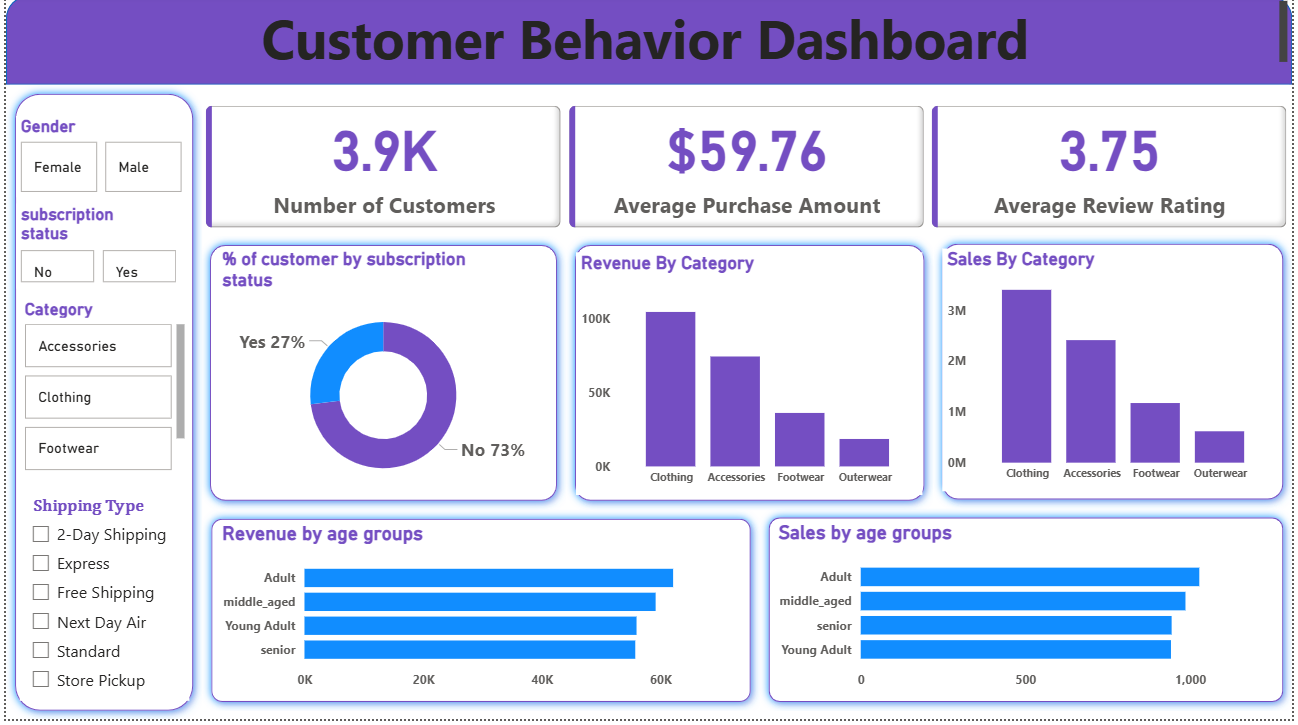

The page's visual inventory and layout, read from the dashboard file:
{"tool":"powerbi","page":{"name":"Page 1","canvas":[1280,720],"ordinal":0},"visuals":[{"type":"cardVisual","fields":{"Data":["public customer.Number of Customers","public customer.Average Purchase Amount","public customer.Average Review Rating"]},"box":[194.1,104.5,1086,131.9],"z":0},{"type":"shape","box":[0,0,1280,88.3],"z":1000},{"type":"textbox","box":[0,0,1280,75.9],"z":2000},{"type":"shape","box":[923,237.6,357,272.4],"z":3000},{"type":"shape","box":[194.1,238.8,363.2,272.4],"z":4000},{"type":"shape","box":[557.3,238.8,365.7,272.4],"z":5000},{"type":"clusteredColumnChart","title":"Sales By Category","fields":{"Y":["Sum(public customer.customer_id)"],"Category":["public customer.category"]},"box":[931.7,251.3,333.4,241.3],"z":6000},{"type":"clusteredColumnChart","title":"Revenue By Category","fields":{"Y":["Sum(public customer.purchase_amount)"],"Category":["public customer.category"]},"box":[567.2,255,344.6,241.3],"z":7000},{"type":"donutChart","title":"% of customer by subscription status","fields":{"Category":["public customer.subscription_status"],"Y":["CountNonNull(public customer.customer_id)"]},"box":[210.2,251.3,330.9,247.5],"z":8000},{"type":"shape","box":[0,88.3,195.3,631.9],"z":9000},{"type":"advancedSlicerVisual","title":"subscription status","fields":{"Values":["public customer.subscription_status"]},"box":[10,206.5,165.4,84.6],"z":10000},{"type":"advancedSlicerVisual","title":"Gender","fields":{"Values":["public customer.gender"]},"box":[10,119.4,170.4,80.9],"z":11000},{"type":"advancedSlicerVisual","title":"Category","fields":{"Values":["public customer.category"]},"box":[13.7,301,169.2,176.6],"z":12000},{"type":"slicer","fields":{"Values":["public customer.shipping_type"]},"box":[13.7,492.6,169.2,209],"z":13000},{"type":"shape","box":[195.3,511.3,554.8,200.3],"z":14000},{"type":"clusteredBarChart","title":"Revenue by age groups","fields":{"Y":["Sum(public customer.purchase_amount)"],"Category":["public customer.age_group"]},"box":[210.2,523.7,516.2,175.4],"z":15000},{"type":"shape","box":[750.1,510,529.9,201.5],"z":16000},{"type":"clusteredBarChart","title":"Sales by age groups","fields":{"Y":["CountNonNull(public customer.customer_id)"],"Category":["public customer.age_group"]},"box":[763.8,522.5,501.3,176.6],"z":17000}]}

Visuals, with their boxes in screenshot pixels (x1, y1, x2, y2), scaled from the page's 1280x720 canvas onto the 1298x725 screenshot:
cardVisual - public customer.Number of Customers x public customer.Average Purchase Amount: 197, 105, 1297, 238
shape: 0, 0, 1297, 89
textbox: 0, 0, 1297, 76
shape: 936, 239, 1297, 514
shape: 197, 240, 565, 515
shape: 565, 240, 936, 515
"Sales By Category" clusteredColumnChart: 945, 253, 1283, 496
"Revenue By Category" clusteredColumnChart: 575, 257, 925, 500
"% of customer by subscription status" donutChart: 213, 253, 549, 502
shape: 0, 89, 198, 724
"subscription status" advancedSlicerVisual: 10, 208, 178, 293
"Gender" advancedSlicerVisual: 10, 120, 183, 202
"Category" advancedSlicerVisual: 14, 303, 185, 481
slicer - public customer.shipping_type: 14, 496, 185, 706
shape: 198, 515, 761, 717
"Revenue by age groups" clusteredBarChart: 213, 527, 737, 704
shape: 761, 514, 1297, 716
"Sales by age groups" clusteredBarChart: 775, 526, 1283, 704
